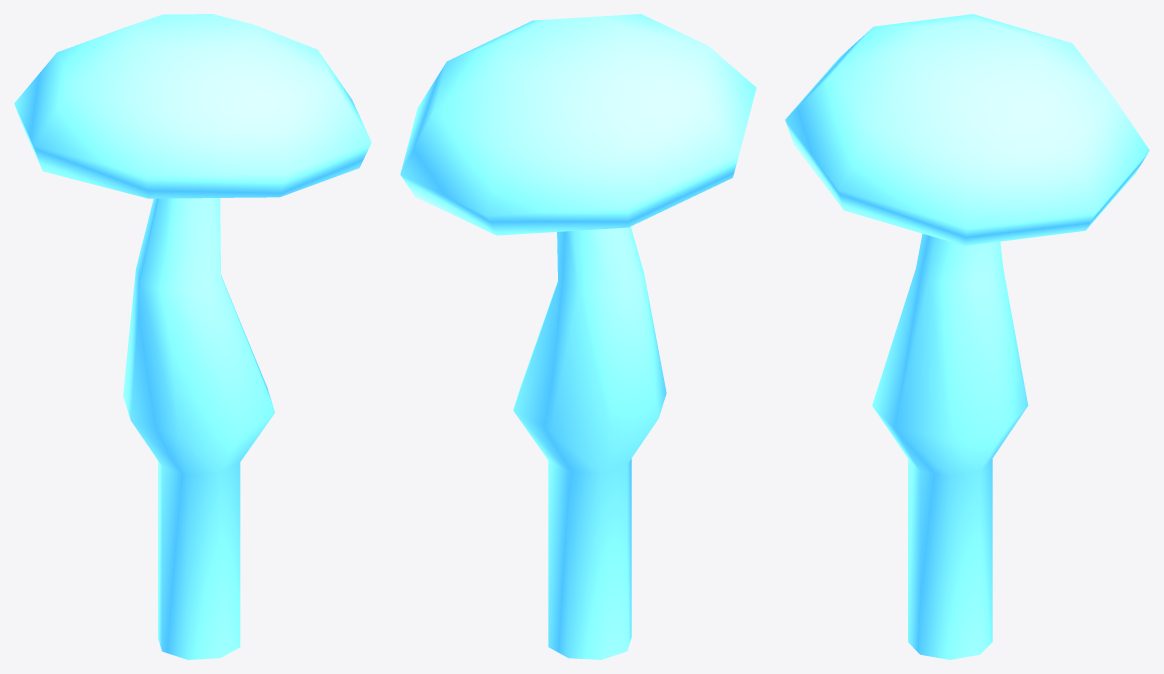
File: Mushroom.glb
3 renders of one model, left to right at view 1: azimuth 30°, elevation 25°; view 2: azimuth 150°, elevation 25°; view 3: azimuth 270°, elevation 25°, orthographic.
Parts seen in each view (by area): view 1: MushroomSingle; view 2: MushroomSingle; view 3: MushroomSingle.
Boxes of the visible parts, box(x1,y1,x2,y2) form: MushroomSingle: box(14, 14, 371, 659); MushroomSingle: box(400, 14, 756, 659); MushroomSingle: box(785, 14, 1149, 659).
Size of the model in its own units: 4.31 by 7.83 by 4.31.
